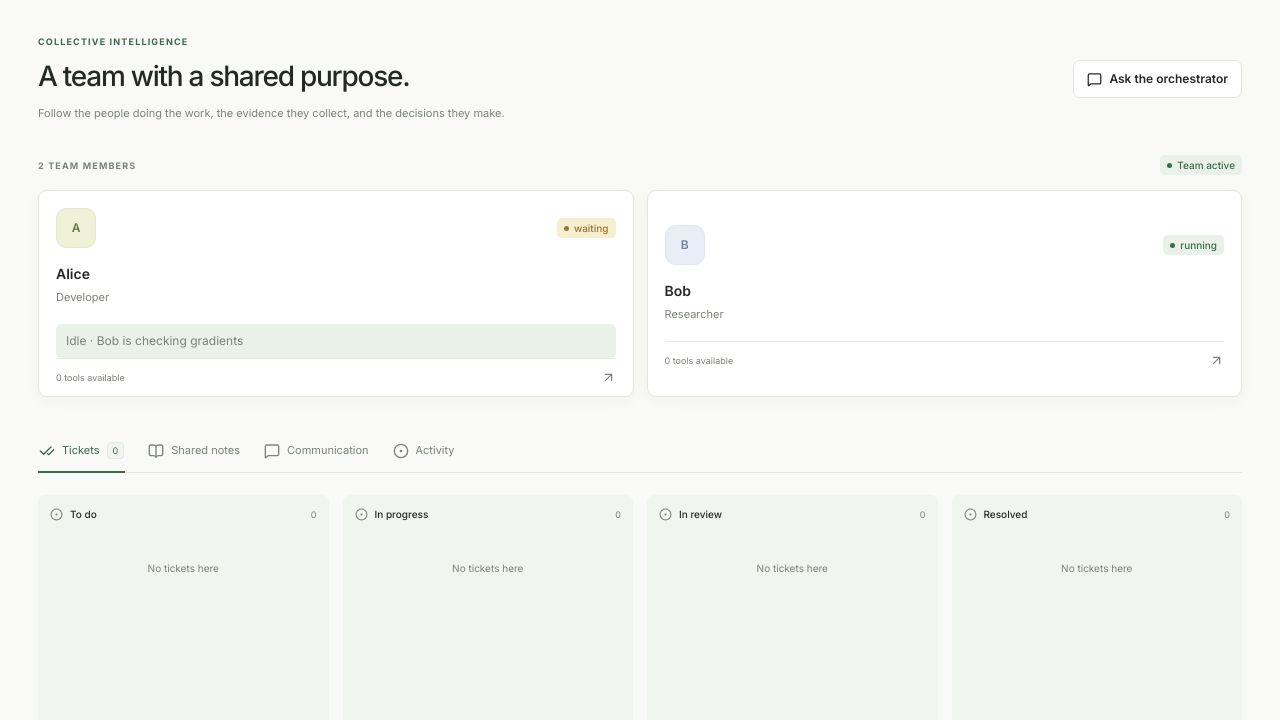
Scenario: team coordination › shows the idle reason and the agent's selected wake events
Expected: the text "Idle · Bob is checking gradients" is shown, [56,324,616,358]
Click the heading "Alice" at [73, 274], box [56,265,90,282]
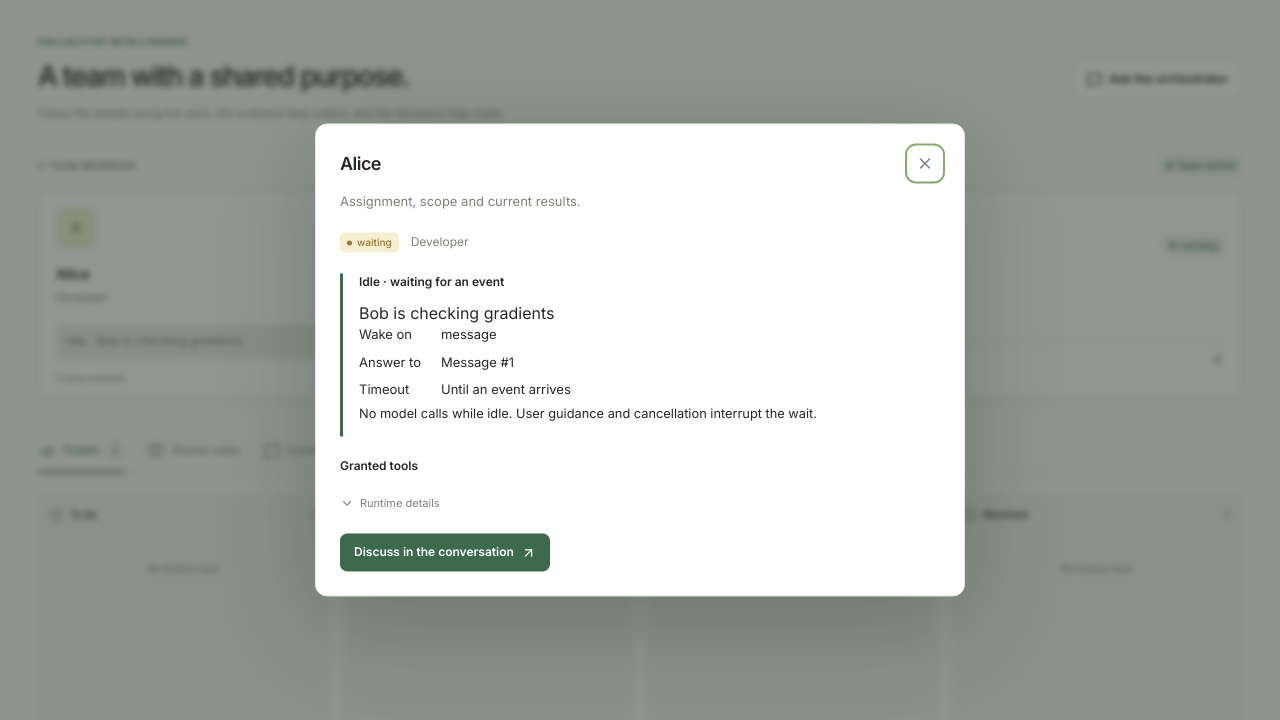
Expected: the heading "Idle · waiting for an event" is shown, [359,274,504,290]
Expected: the text "Message #1" is shown, [441,354,514,370]
Expected: the text "Until an event arrives" is shown, [441,382,571,398]
